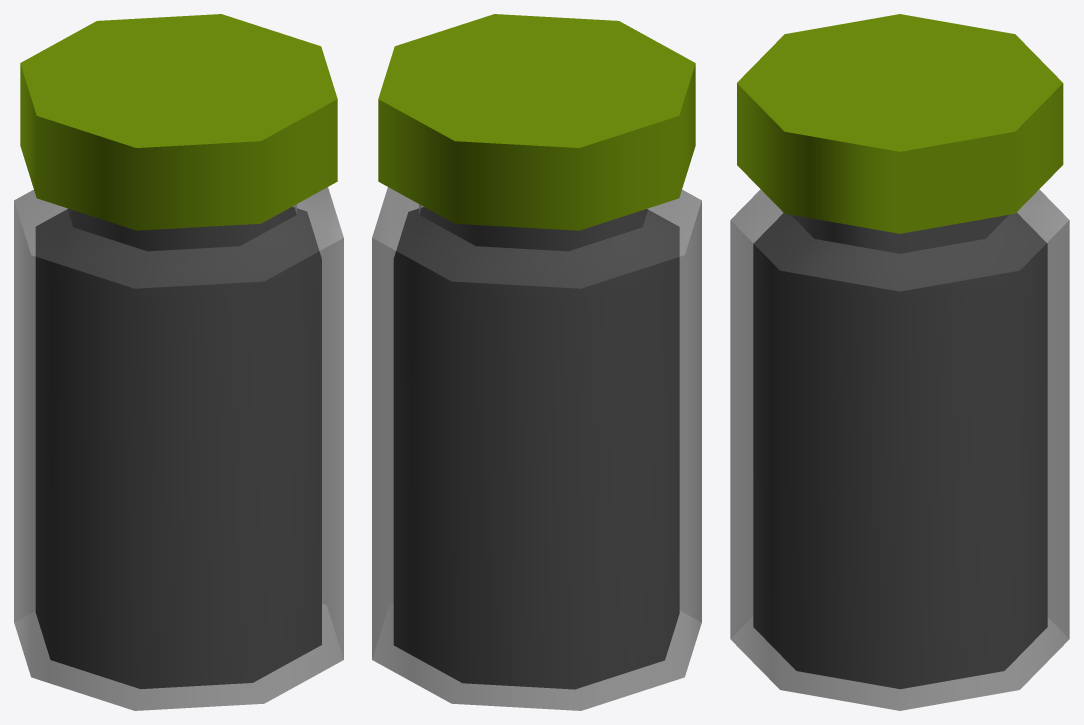
File: nitrojar.fbx
3 renders of one model, left to right at view 1: azimuth 30°, elevation 25°; view 2: azimuth 150°, elevation 25°; view 3: azimuth 270°, elevation 25°, orthographic.
Visible parts, largest first — view 1: Cylinder004, pCylinder1; view 2: Cylinder004, pCylinder1; view 3: Cylinder004, pCylinder1.
Part boxes in pixels (x1=…): Cylinder004: x1=14, y1=14, x2=343, y2=710; pCylinder1: x1=35, y1=207, x2=321, y2=688; Cylinder004: x1=372, y1=14, x2=701, y2=710; pCylinder1: x1=393, y1=207, x2=679, y2=689; Cylinder004: x1=730, y1=14, x2=1069, y2=710; pCylinder1: x1=753, y1=212, x2=1047, y2=689.
Size of the model in its own units: 50.61 by 91.64 by 50.61.
